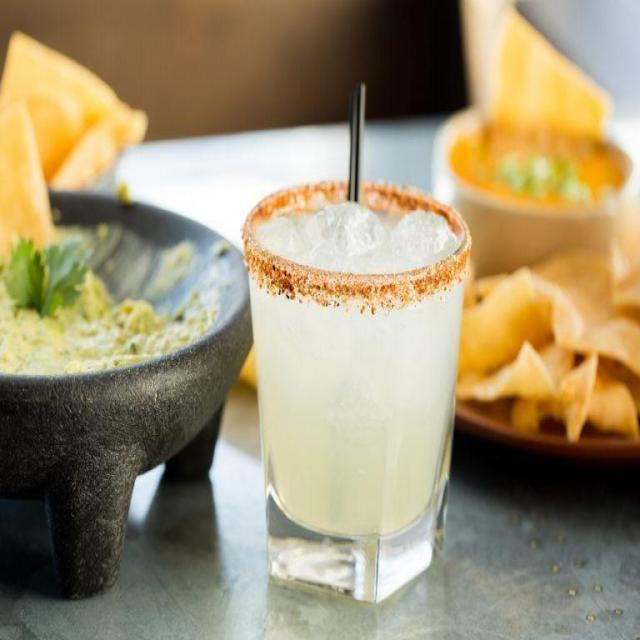glass-normal: (240, 176, 472, 605)
